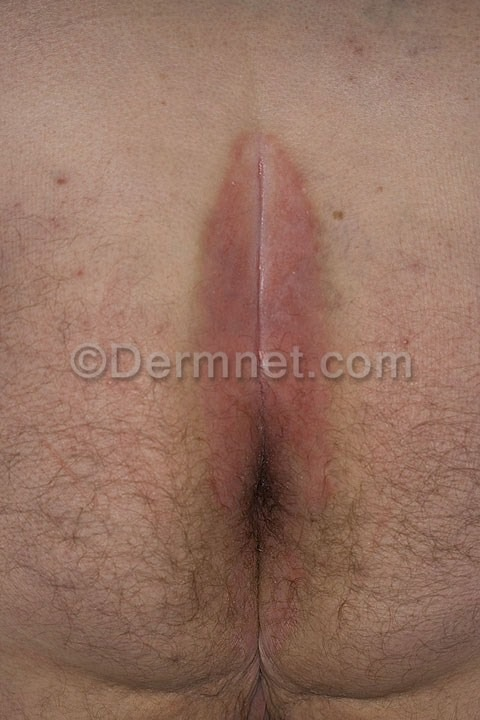Psoriasis: (163, 123, 367, 442)
